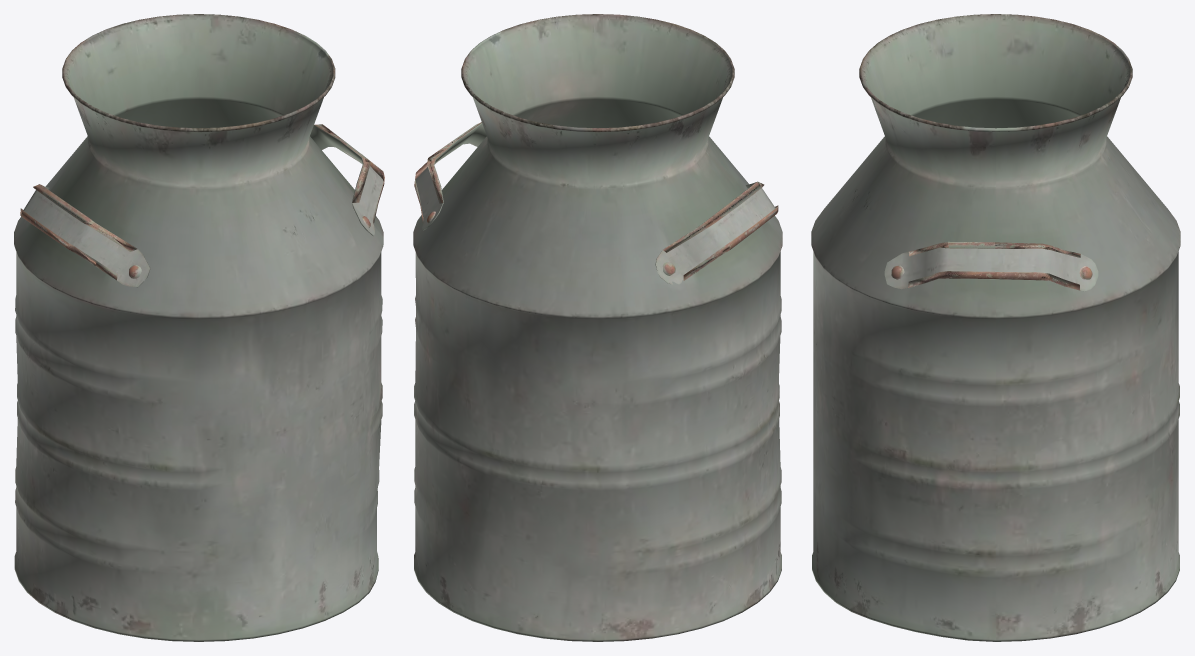
The model's file is metal_jug.glb.
The picture shows the model from 3 angles, left to right: view 1: azimuth 30°, elevation 25°; view 2: azimuth 150°, elevation 25°; view 3: azimuth 270°, elevation 25°; orthographic projection.
Parts seen in each view (by area): view 1: metal_jug; view 2: metal_jug; view 3: metal_jug.
Boxes of the visible parts, bbox=[...] form: metal_jug: bbox=[14, 14, 384, 641]; metal_jug: bbox=[413, 14, 782, 641]; metal_jug: bbox=[811, 14, 1180, 641].
Bounding box in the file's own units: 0.1968 × 0.2875 × 0.1955.
1 material, 1 textured.
